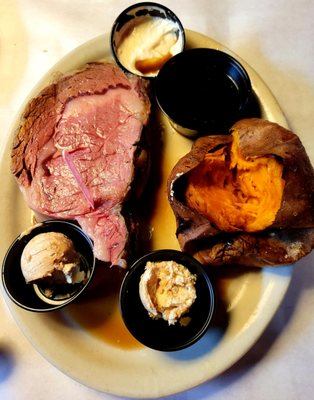sushi: (119, 250, 214, 352)
